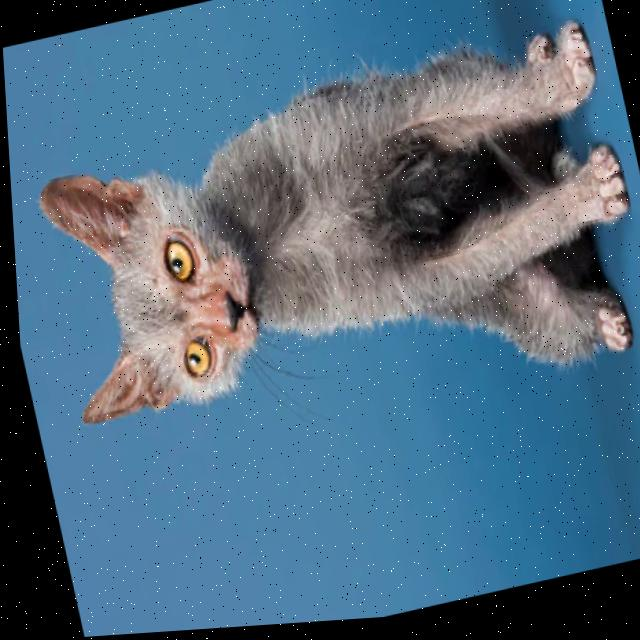Lykoi: (10, 8, 640, 484)
